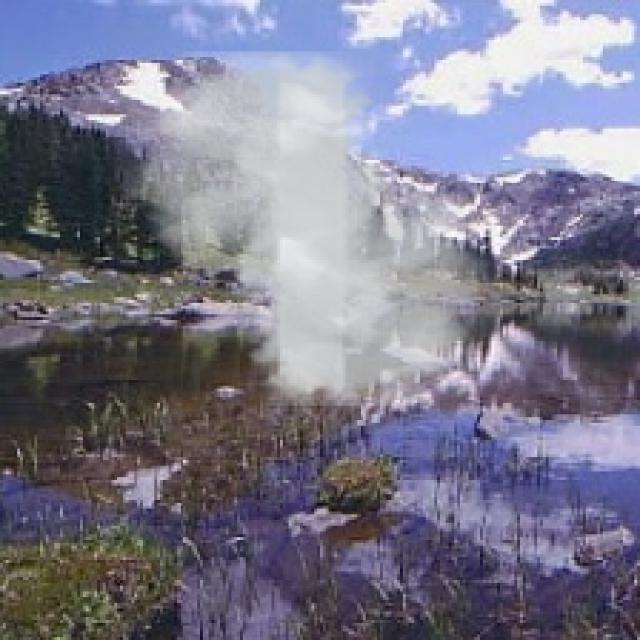Smoke: (120, 51, 503, 406)
